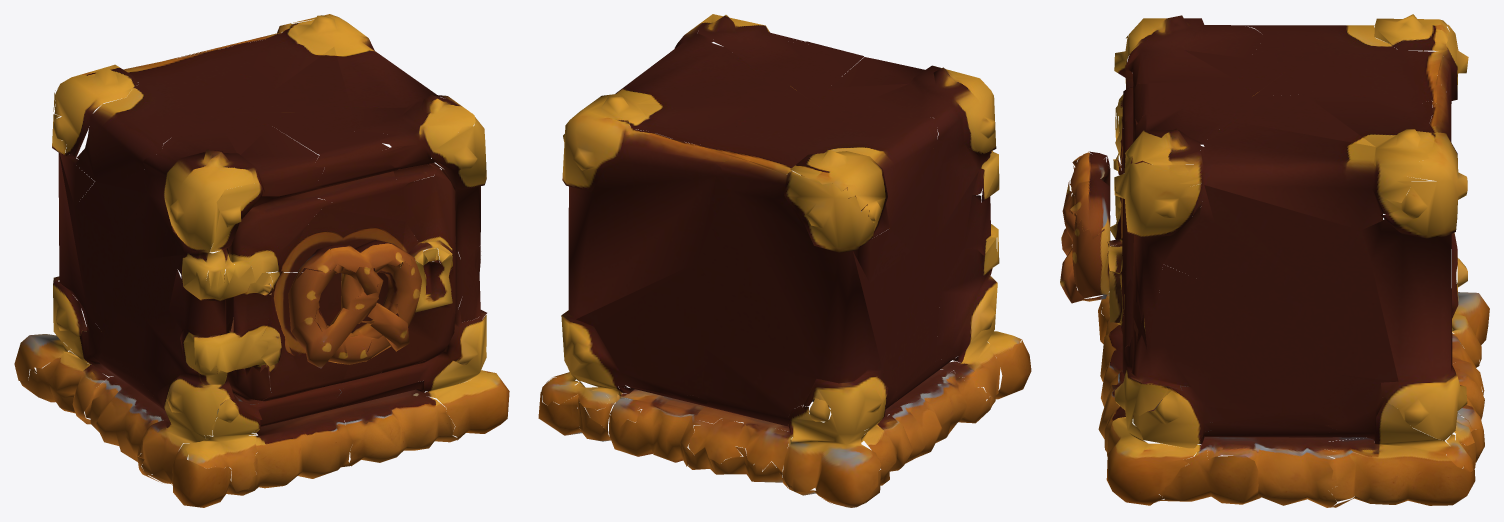
Rendered from prop-treasure-chest.glb.
3 views of the same model, side by side, from view 1: azimuth 30°, elevation 25°; view 2: azimuth 150°, elevation 25°; view 3: azimuth 270°, elevation 25° (orthographic). The views are drawn at different scales.
Parts seen in each view (by area): view 1: tripo_node_a2ade100-f6f6-4f45-b54d-c0e76e329fc6; view 2: tripo_node_a2ade100-f6f6-4f45-b54d-c0e76e329fc6; view 3: tripo_node_a2ade100-f6f6-4f45-b54d-c0e76e329fc6.
Boxes of the visible parts, left/top/right/bottom form: tripo_node_a2ade100-f6f6-4f45-b54d-c0e76e329fc6: left=14, top=14, right=509, bottom=507; tripo_node_a2ade100-f6f6-4f45-b54d-c0e76e329fc6: left=538, top=14, right=1031, bottom=507; tripo_node_a2ade100-f6f6-4f45-b54d-c0e76e329fc6: left=1060, top=14, right=1489, bottom=507.
Bounding box in the file's own units: 0.9664 × 0.9197 × 0.9979.
1 material, 1 textured.
